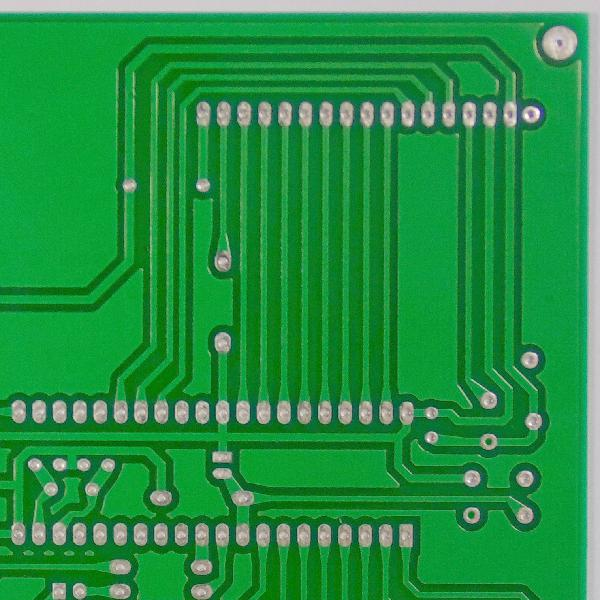missing_hole: (462, 505, 483, 527), (479, 432, 499, 452)
